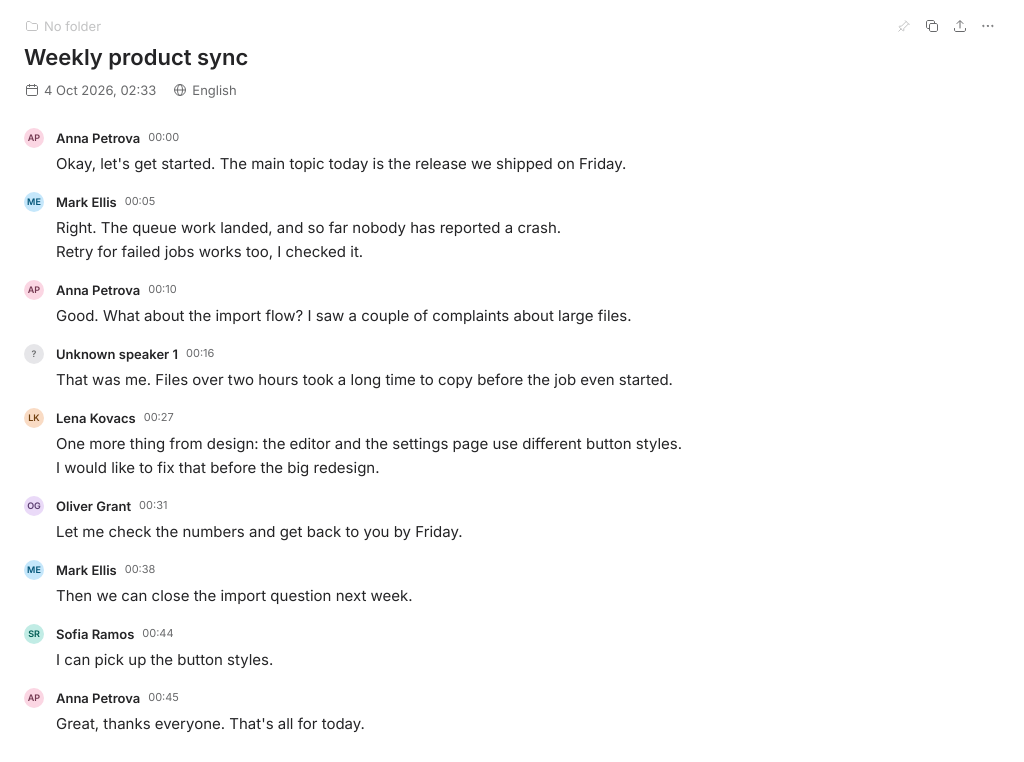
it: editing › one paragraph at a time: starting another saves the first
Double-click the text "Retry for failed jobs works too, I checked it." at (210, 252), box [56,242,363,261]
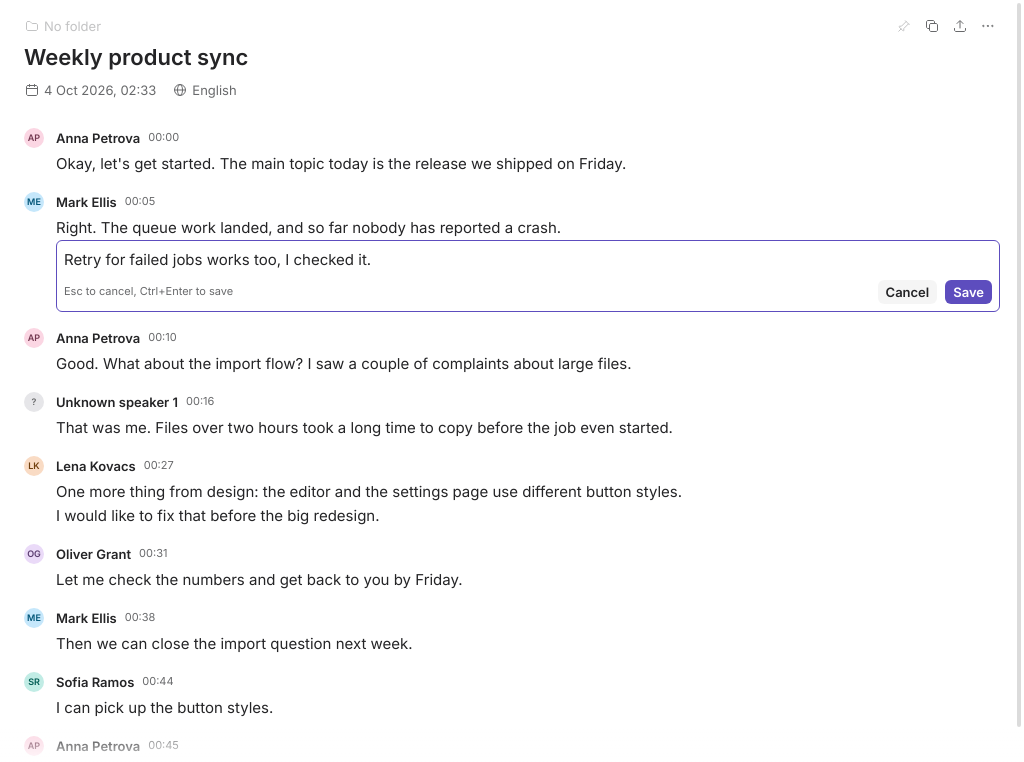
Type " Really." into the text box named "Paragraph text" at (528, 260), box [64,248,992,272]
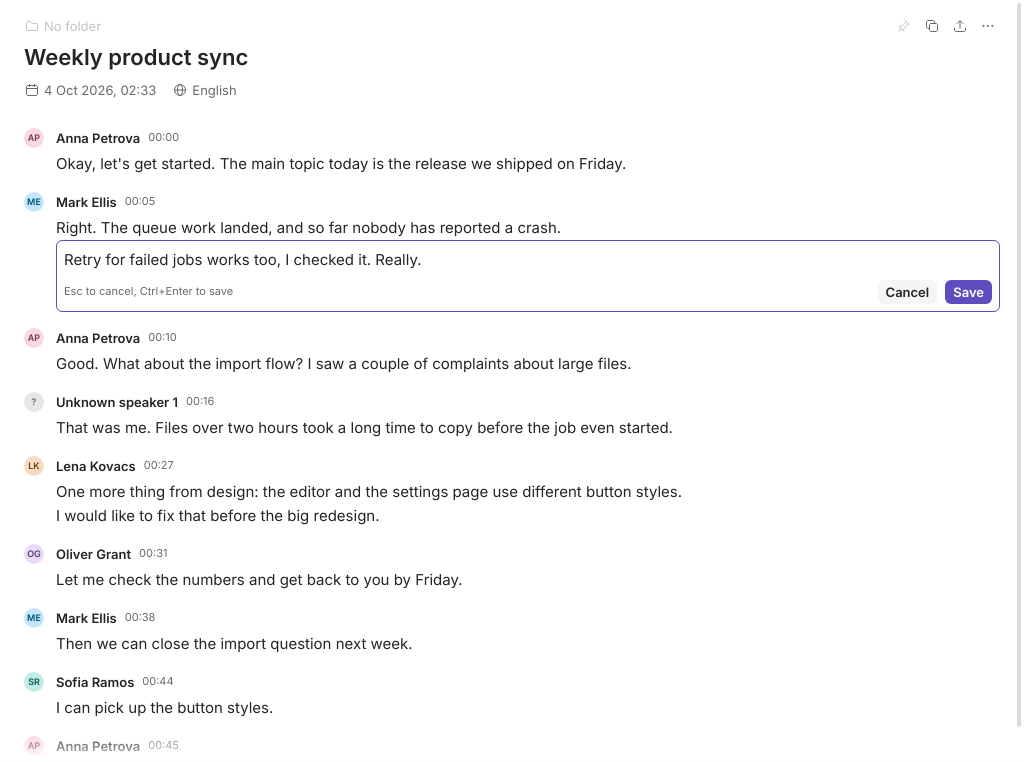
Double-click the text "Right. The queue work landed, and so far nobody has reported a crash." at (309, 228), box [56,218,561,237]
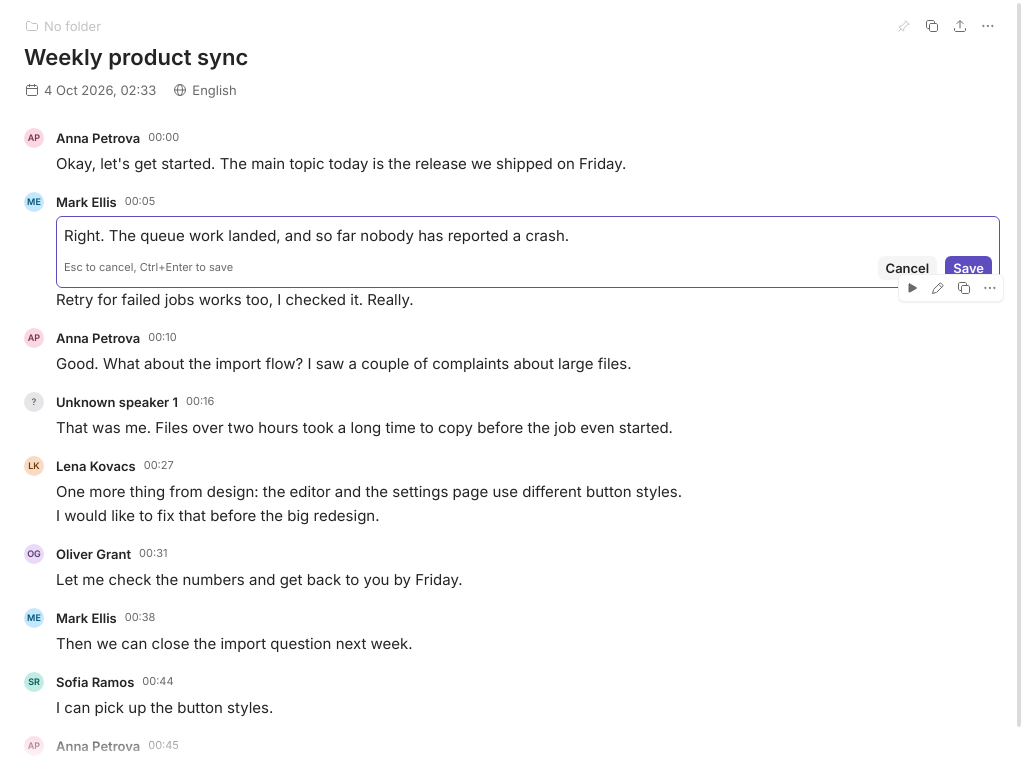
Now the number of text boxes named "Paragraph text" is 1, box [64,224,992,248]
Now the text box named "Paragraph text" holds "Right. The queue work landed, and so far nobody has reported a crash.", box [64,224,992,248]
